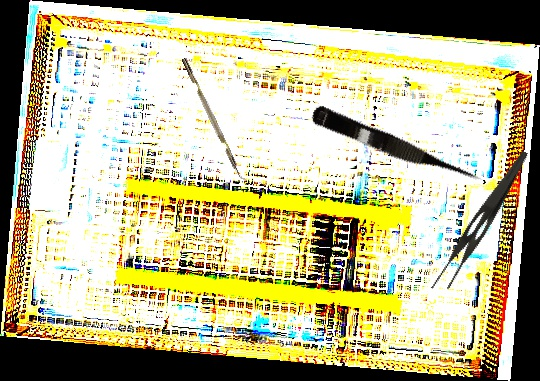Chopper: (181, 55, 250, 184)
Dressing Forceps: (428, 141, 530, 300)
Micro Scissor: (308, 103, 486, 194)
